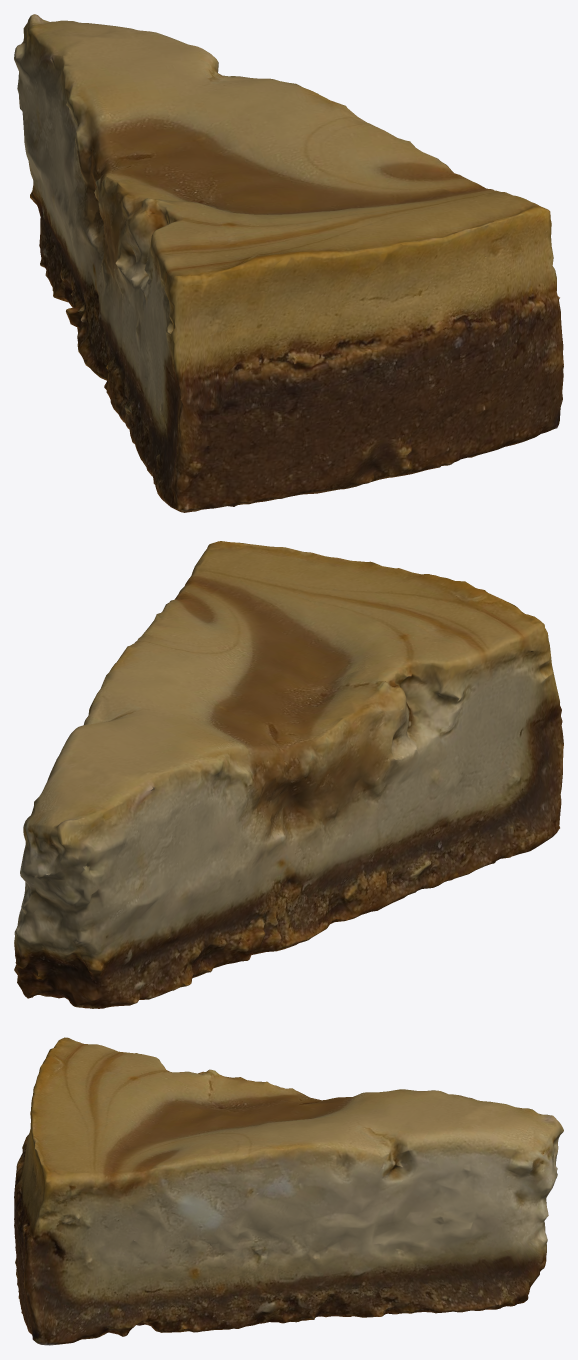
The picture shows the model from 3 angles, top to bottom: view 1: azimuth 30°, elevation 25°; view 2: azimuth 150°, elevation 25°; view 3: azimuth 270°, elevation 25°; orthographic projection. The views are drawn at different scales.
Visible parts, largest first — view 1: Model; view 2: Model; view 3: Model.
Part boxes in pixels (x1,y1,x2,y2): Model: [14, 14, 563, 512]; Model: [14, 541, 563, 1008]; Model: [14, 1037, 563, 1345].
Size of the model in its own units: 0.0603 by 0.0371 by 0.1.
Materials: 1 (1 with a texture image).
